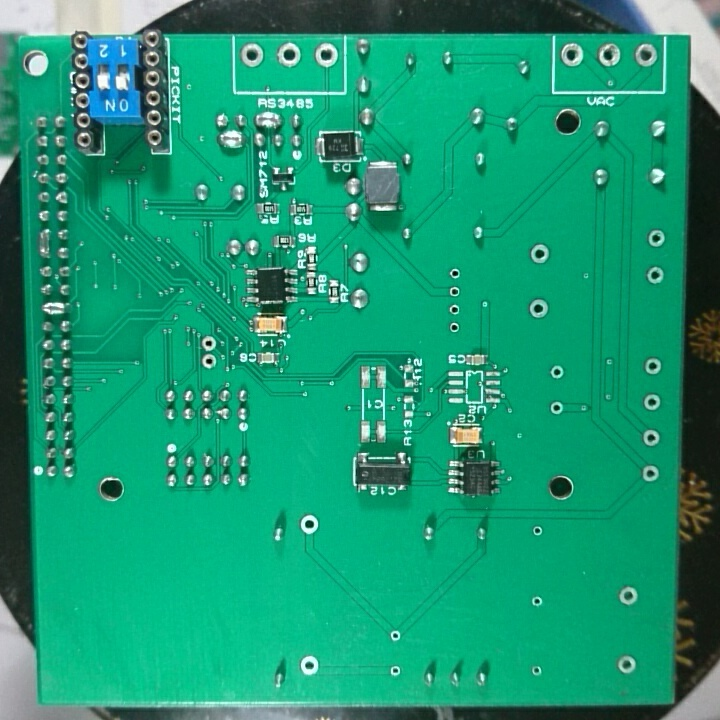F: (631, 40, 660, 74), (311, 41, 340, 72), (596, 40, 625, 71), (276, 40, 304, 71), (560, 41, 588, 72), (238, 43, 267, 69), (297, 511, 322, 539), (297, 652, 322, 678), (526, 296, 552, 321), (642, 353, 665, 380), (527, 242, 551, 267), (639, 461, 662, 486), (614, 653, 637, 678), (646, 226, 668, 252), (618, 583, 639, 609), (645, 263, 667, 287), (197, 332, 221, 354), (640, 428, 662, 449), (641, 392, 662, 413), (198, 352, 220, 371), (445, 282, 467, 301), (548, 398, 567, 420), (547, 363, 567, 382), (445, 264, 467, 281), (528, 660, 546, 680), (445, 300, 465, 318), (386, 662, 405, 680), (529, 592, 545, 612), (445, 319, 465, 335), (528, 522, 545, 540), (386, 627, 402, 646)
P: (251, 109, 285, 132), (35, 226, 54, 261), (216, 129, 247, 150), (39, 300, 71, 318)
